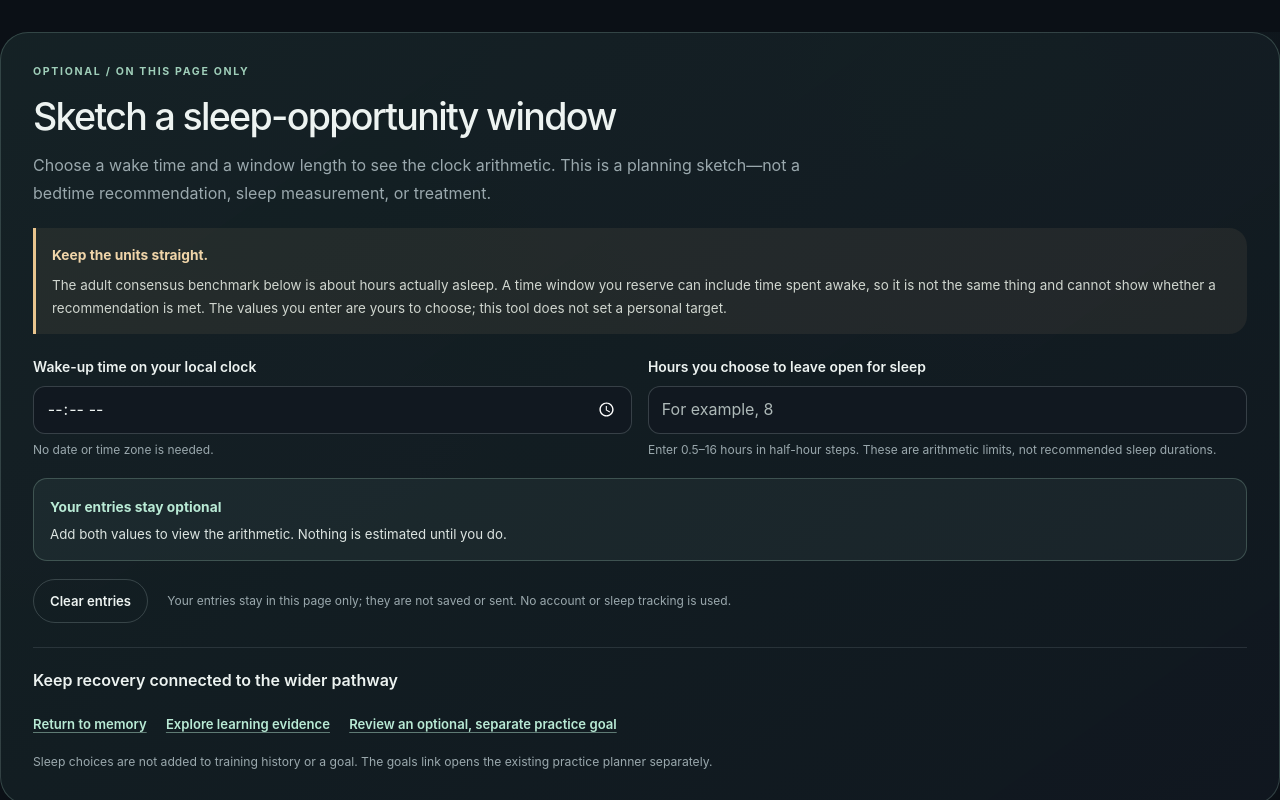
sleep-opportunity planner › handles a same-day calculation, then lets the user clear both entries
Type "14:00" into the time field labelled "Wake-up time on your local clock".
click(332, 410); type("14:00")  # box [33, 386, 632, 434]
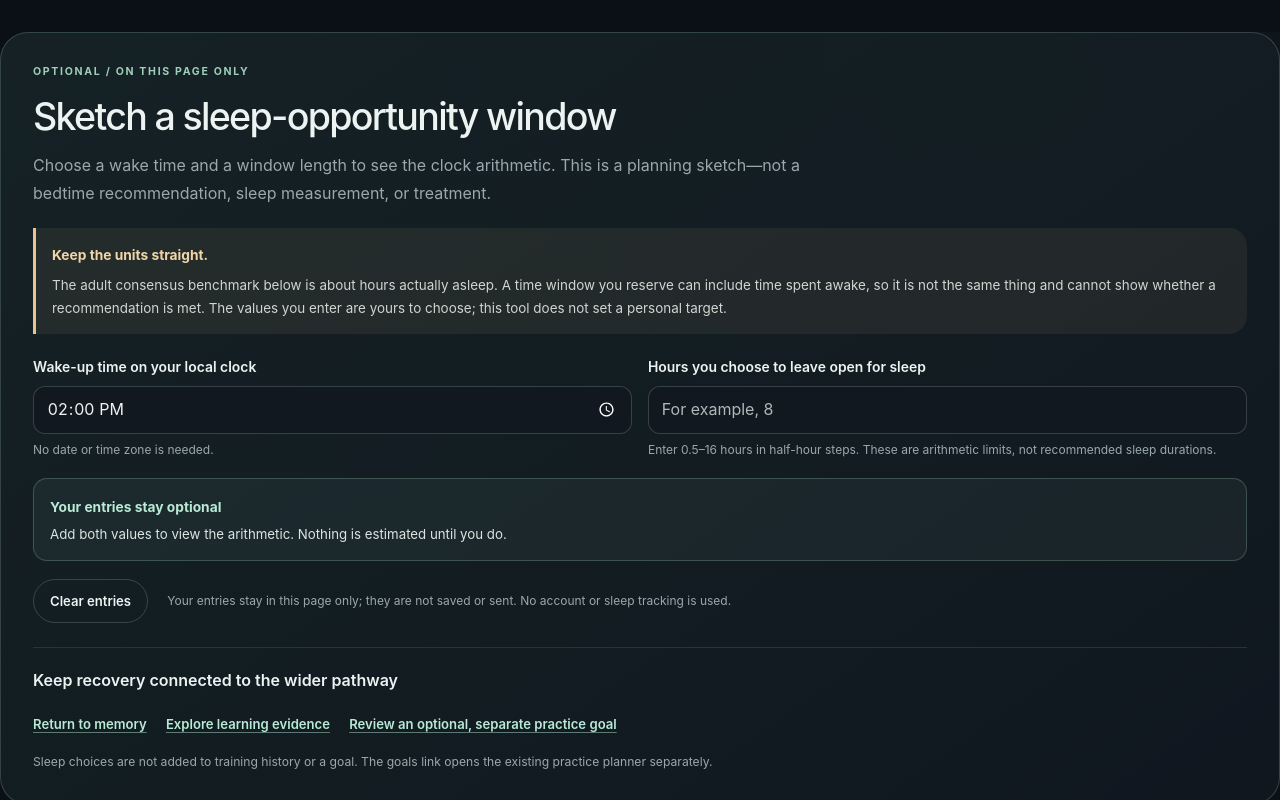
Type "8" into the number field labelled "Hours you choose to leave open for sleep".
click(948, 410); type("8")  # box [648, 386, 1247, 434]
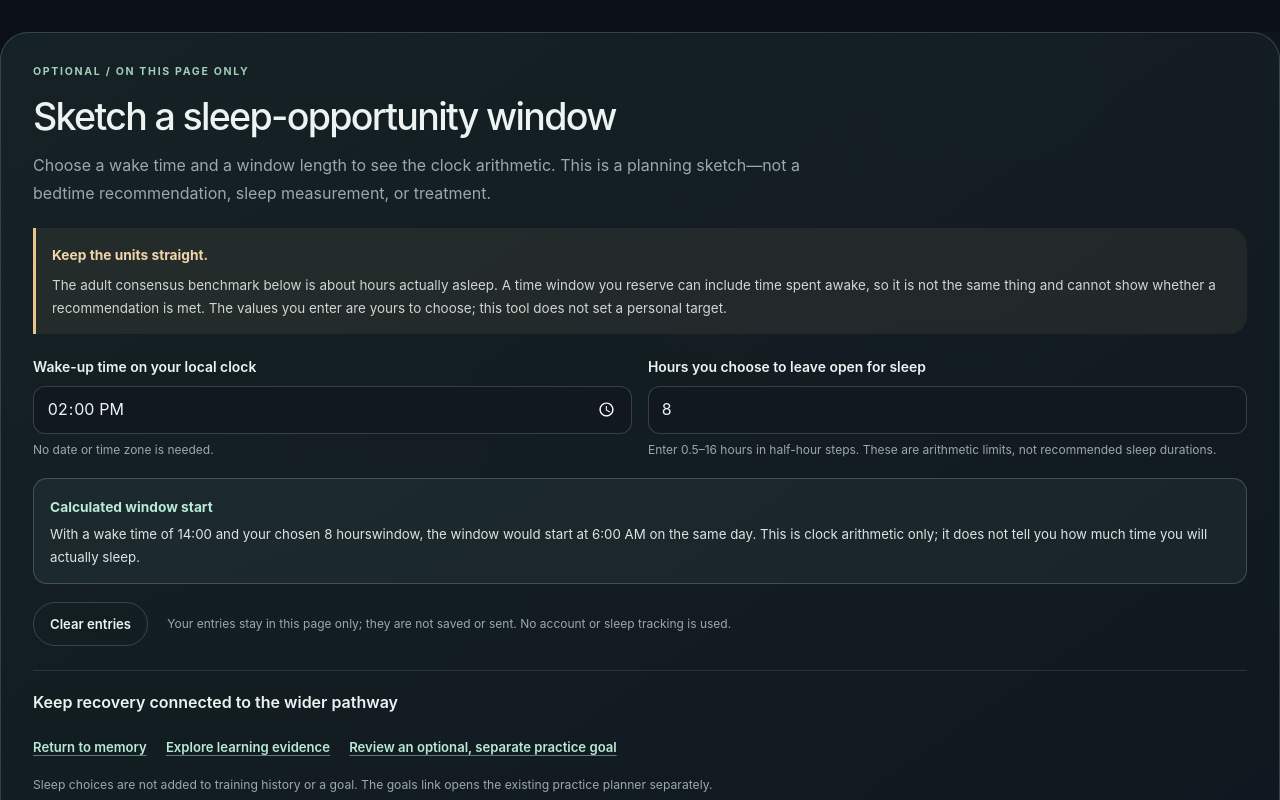
Check: the message shows "start at 6:00 AM on the same day", box [33, 478, 1247, 584]
Click the button "Clear entries".
click(91, 624)  # box [33, 602, 148, 646]
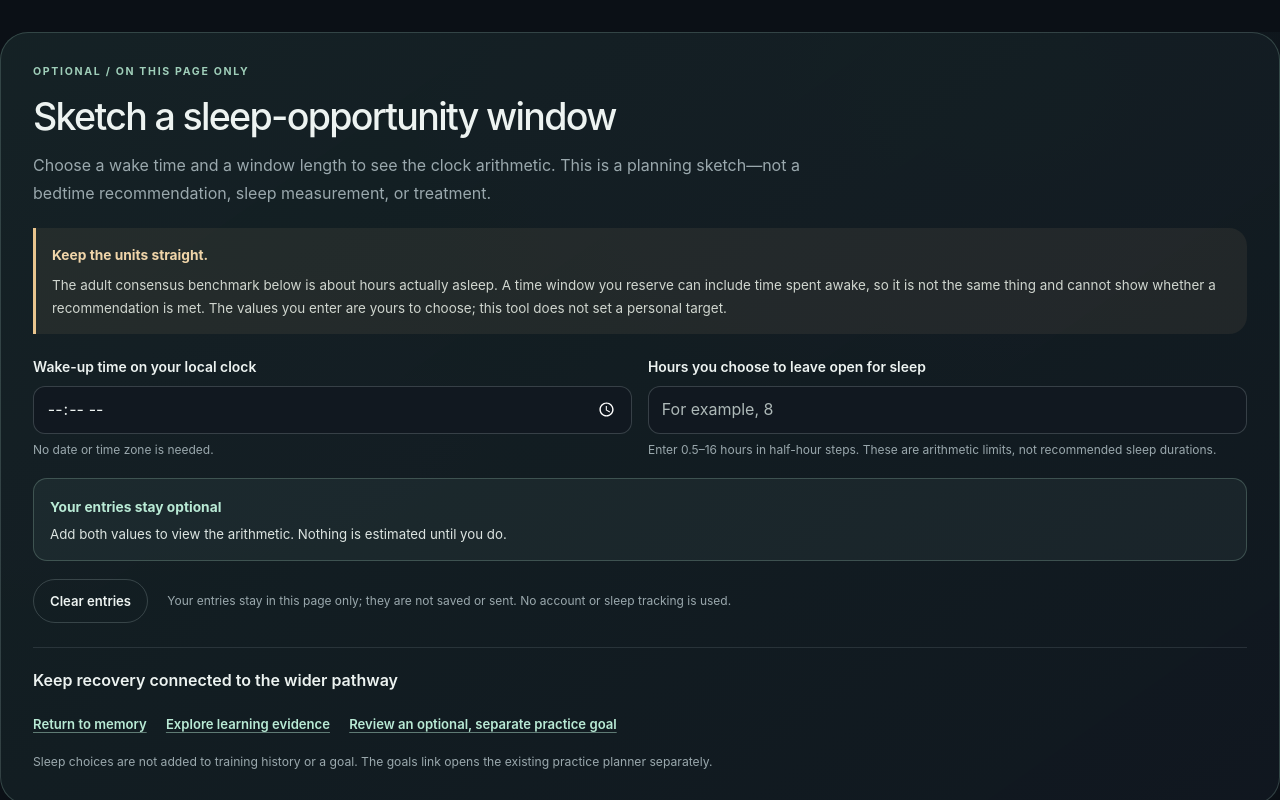
Check: the time field labelled "Wake-up time on your local clock" is empty, box [33, 386, 632, 434]
Check: the number field labelled "Hours you choose to leave open for sleep" is not empty, box [648, 386, 1247, 434]
Check: the message shows "nothing is estimated until you do", box [50, 526, 507, 542]
